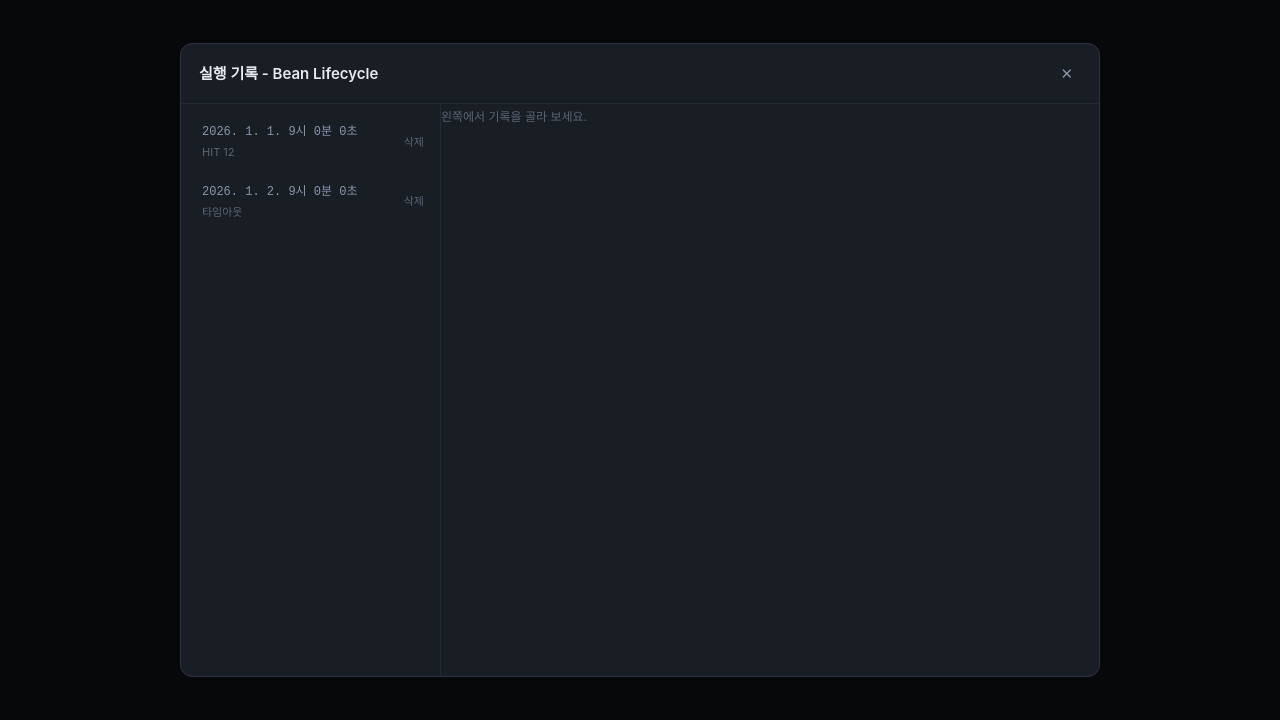
Scenario: RunHistoryModal › deletes a run and refreshes the list, clearing the detail if it was selected
Click the text "HIT 12" at [218, 152], box x1=202 y1=144 x2=234 y2=161
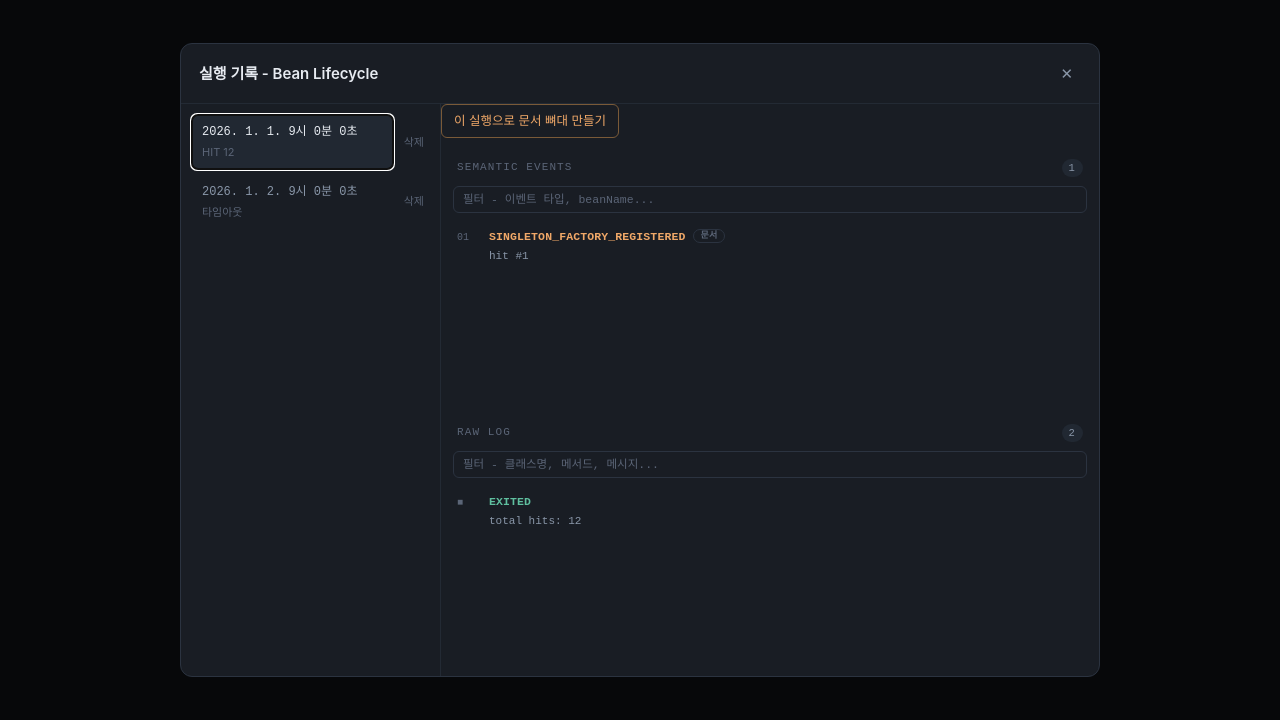
Check: the text "SINGLETON_FACTORY_REGISTERED" is shown, box x1=489 y1=230 x2=686 y2=243
Click the button with aria-label "이 기록 삭제" at [414, 142], box x1=398 y1=114 x2=430 y2=170
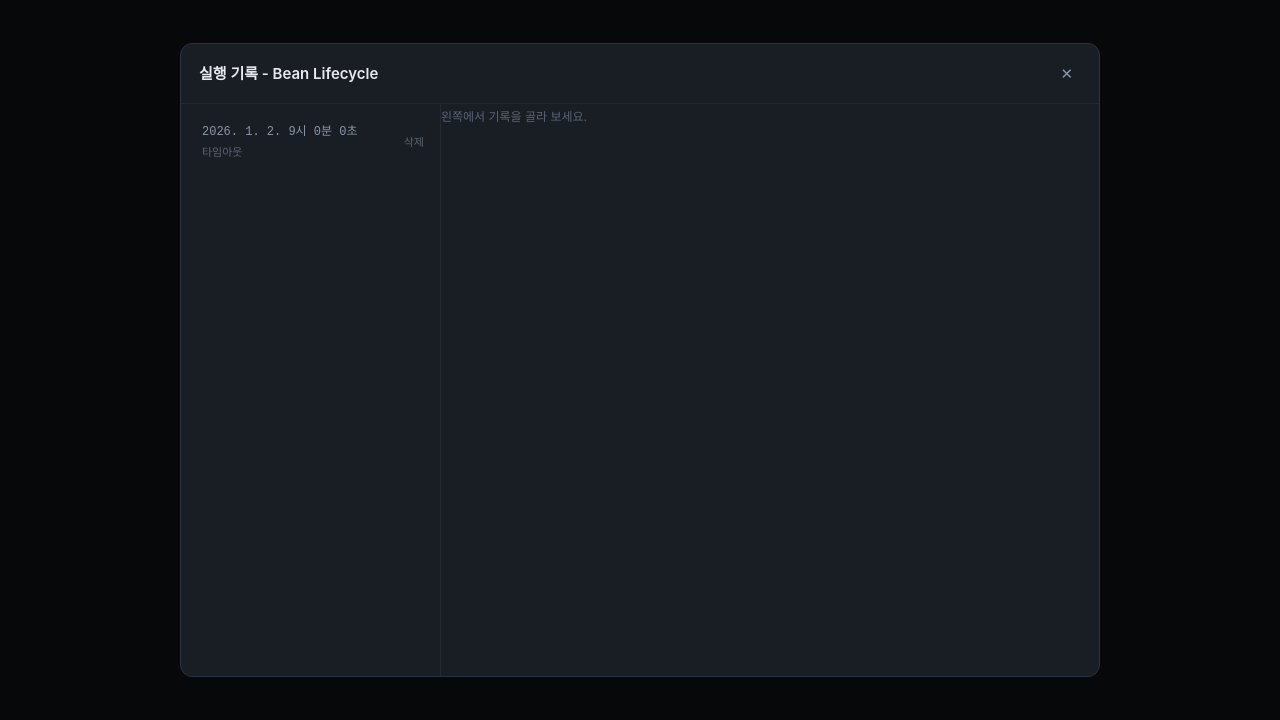
Check: the text "왼쪽에서 기록을 골라 보세요." is shown, box x1=441 y1=110 x2=587 y2=124
